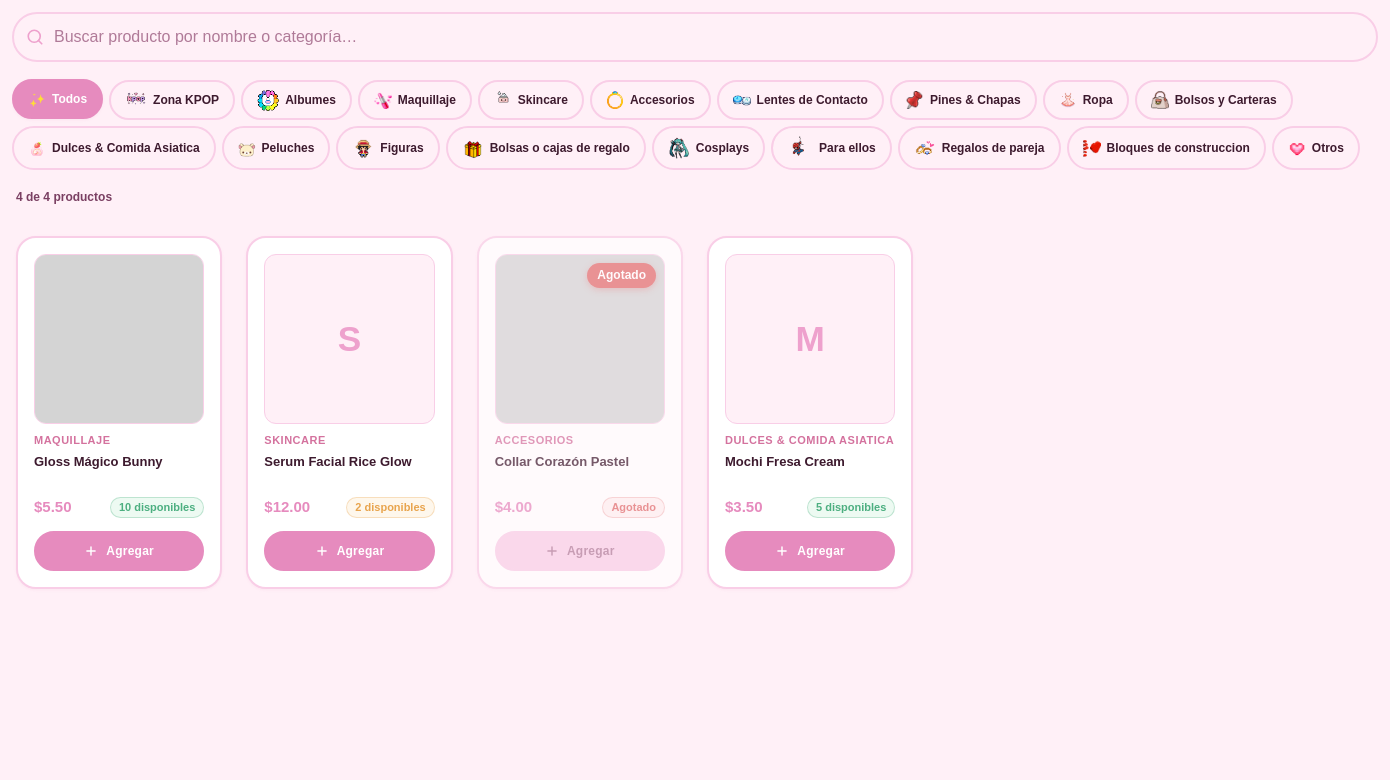
it: AdminProductPicker › filtra productos en vivo por nombre de producto
Type "Gloss" into the search field with placeholder "Buscar producto por nombre o categoría…" at (695, 37), box [12,12,1378,62]
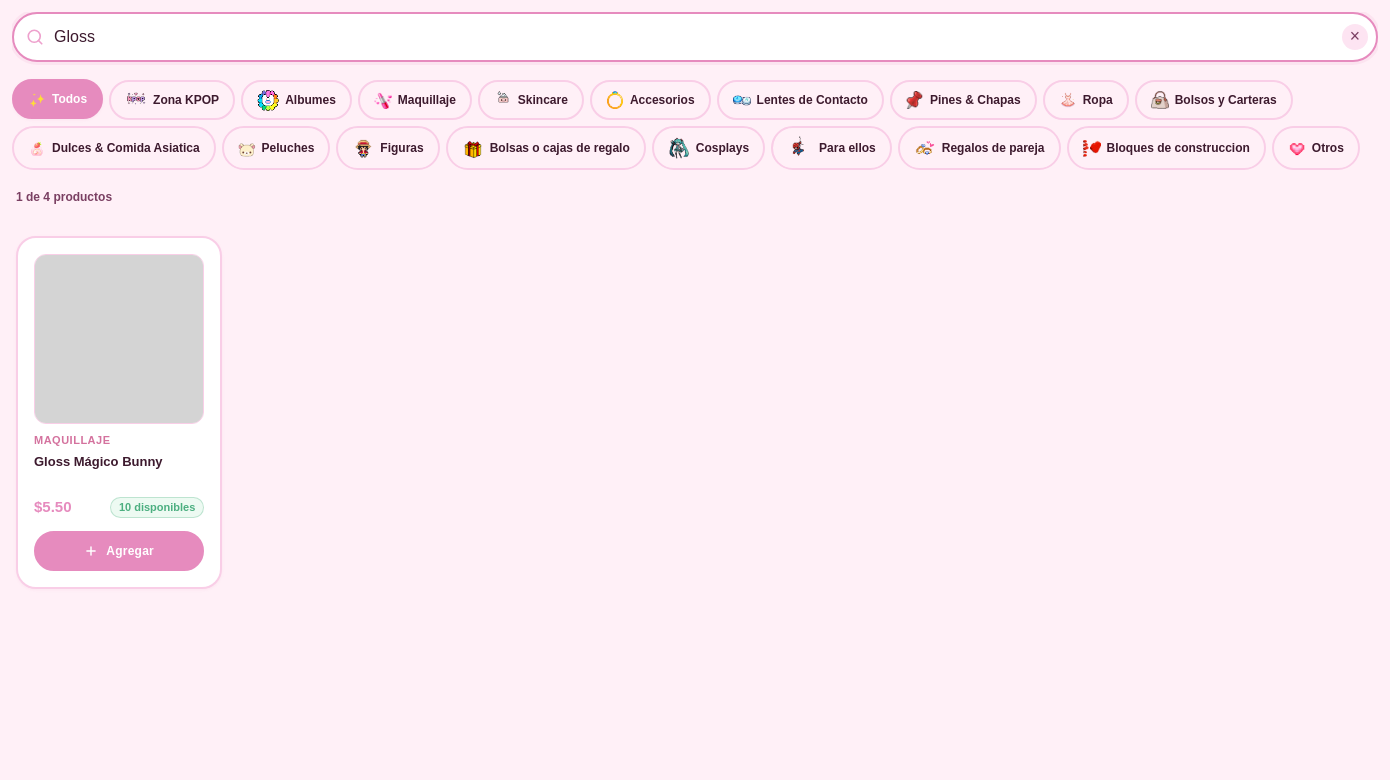
Expected: the text "Gloss Mágico Bunny" is shown, [34,454,163,468]
Expected: the text "Serum Facial Rice Glow" is gone
Expected: the text "Mochi Fresa Cream" is gone
